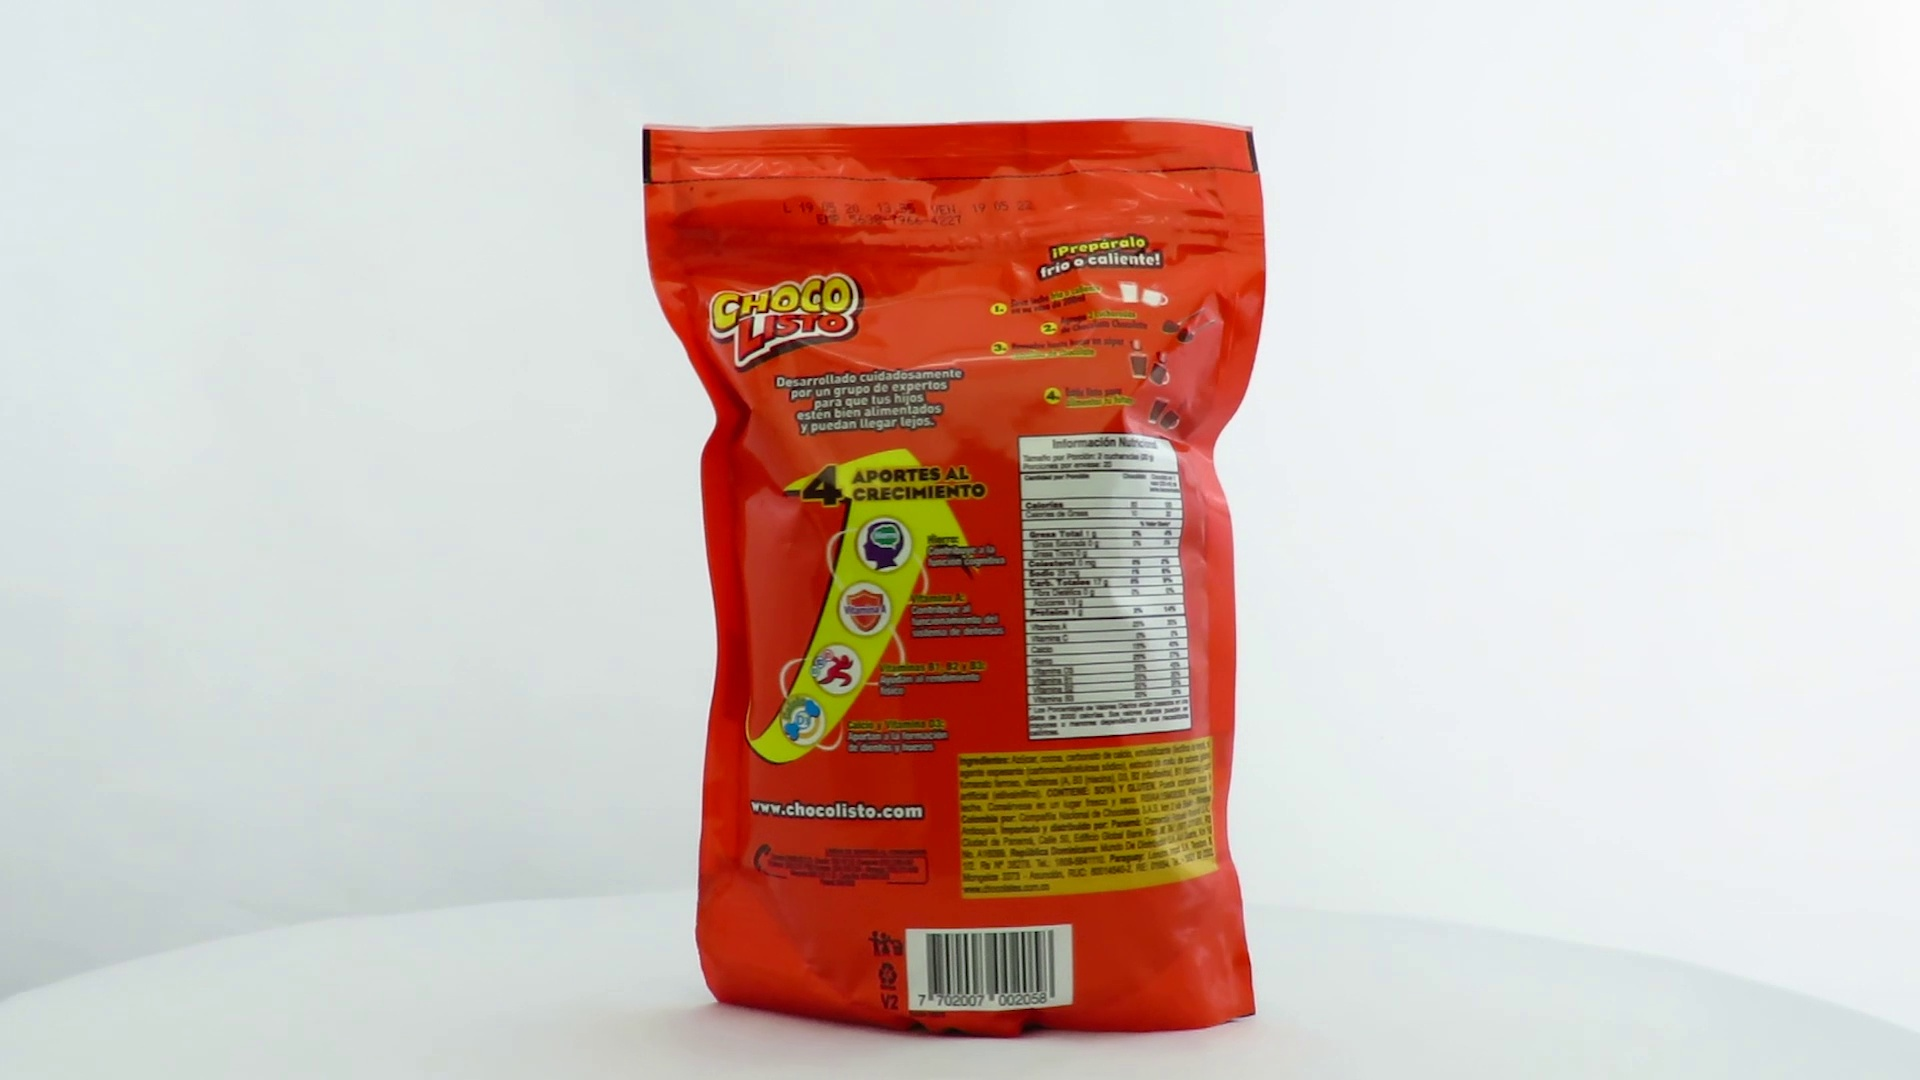COL0170103DYP40000: (637, 112, 1273, 1044)
